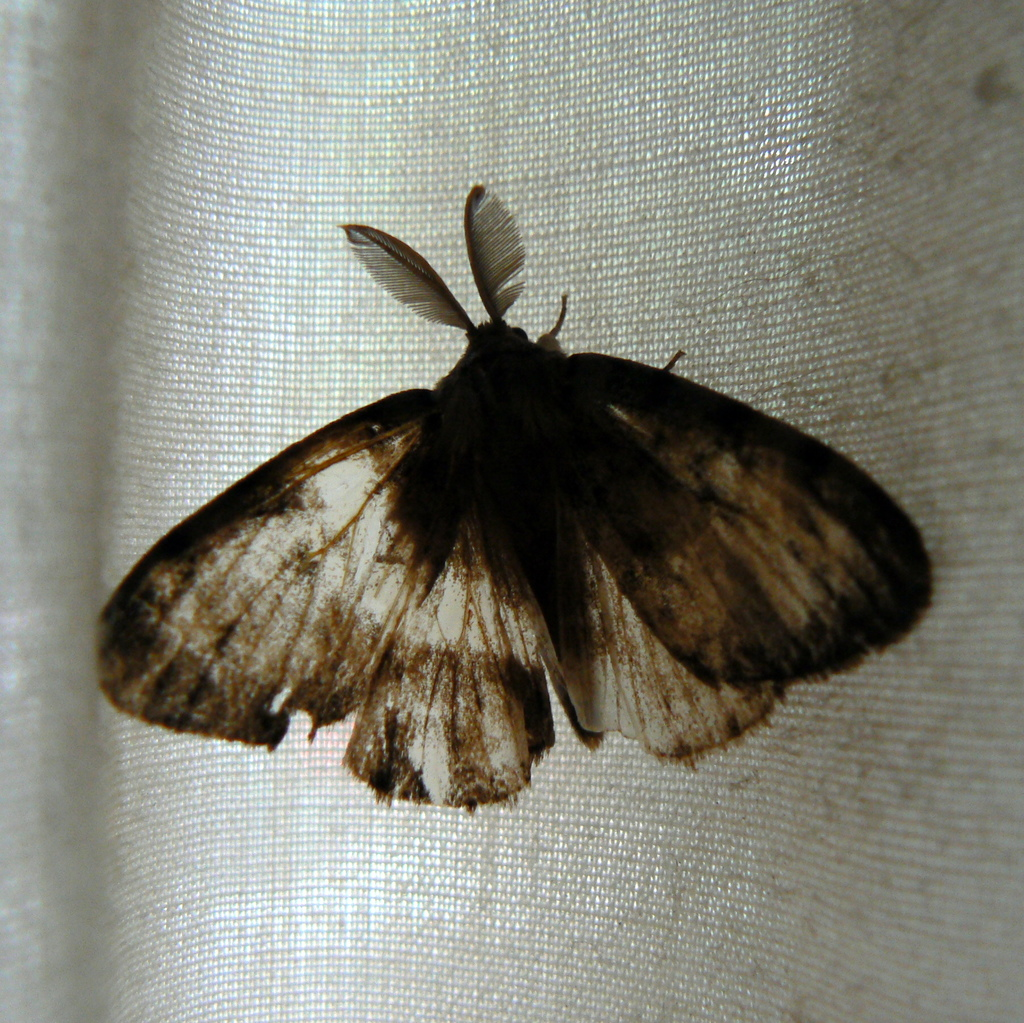Butterfly: (70, 149, 916, 865)
